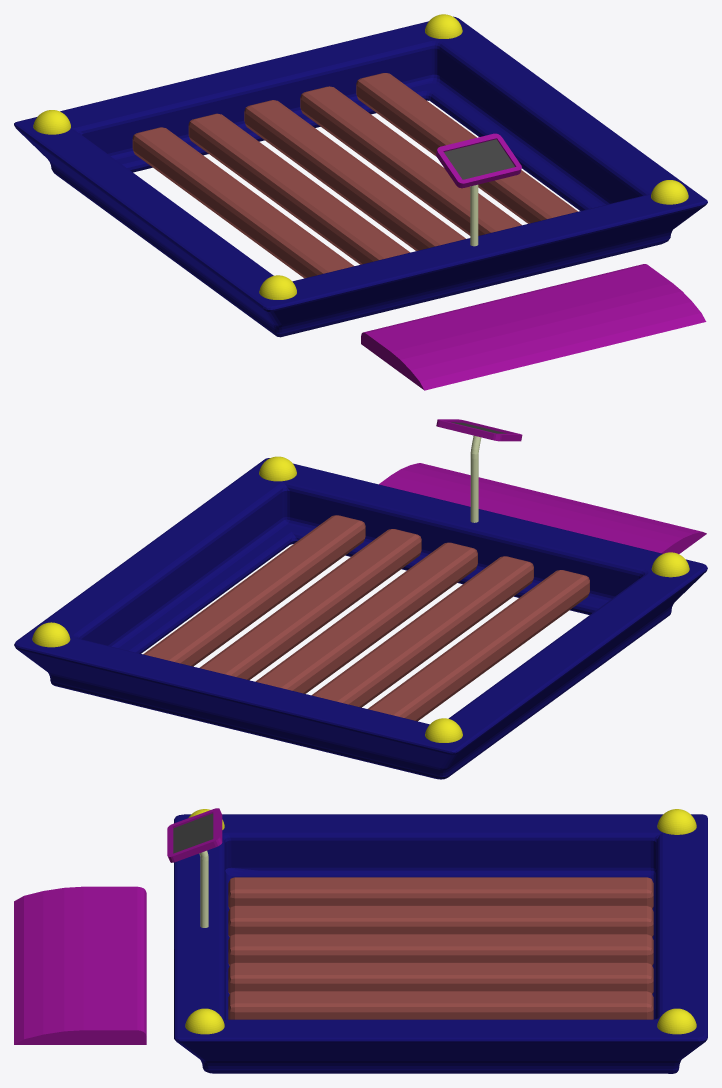
The model's file is pallet.fbx.
3 views of the same model, one above another, from view 1: azimuth 30°, elevation 25°; view 2: azimuth 150°, elevation 25°; view 3: azimuth 270°, elevation 25° (orthographic). The views are drawn at different scales.
Parts seen in each view (by area): view 1: frame, plank, platform, Plane, pad, corner light.002, corner light.003, corner light, corner light.001; view 2: frame, plank, platform, pad, Cylinder, corner light.001, corner light.003, corner light, corner light.002; view 3: frame, plank, platform, pad, Plane, corner light.003, corner light, corner light.002, Cylinder.
Boxes of the visible parts, bbox=[...] form: frame: bbox=[14, 16, 707, 337]; plank: bbox=[132, 73, 577, 278]; platform: bbox=[361, 264, 706, 390]; Plane: bbox=[444, 139, 514, 179]; pad: bbox=[436, 133, 521, 188]; corner light.002: bbox=[33, 110, 70, 134]; corner light.003: bbox=[651, 180, 688, 204]; corner light: bbox=[425, 14, 462, 38]; corner light.001: bbox=[259, 275, 296, 299]; frame: bbox=[14, 458, 707, 779]; plank: bbox=[143, 515, 589, 721]; platform: bbox=[379, 463, 706, 553]; pad: bbox=[436, 419, 522, 441]; Cylinder: bbox=[470, 435, 481, 522]; corner light.001: bbox=[651, 552, 689, 577]; corner light.003: bbox=[259, 456, 296, 481]; corner light: bbox=[32, 622, 70, 647]; corner light.002: bbox=[425, 718, 462, 742]; frame: bbox=[174, 814, 707, 1073]; plank: bbox=[228, 877, 653, 1019]; platform: bbox=[14, 886, 146, 1044]; pad: bbox=[167, 808, 222, 862]; Plane: bbox=[173, 813, 213, 853]; corner light.003: bbox=[185, 1008, 224, 1034]; corner light: bbox=[657, 1008, 696, 1034]; corner light.002: bbox=[657, 809, 696, 834]; Cylinder: bbox=[199, 850, 208, 927].
Size of the model in its own units: 396 by 124 by 515.
